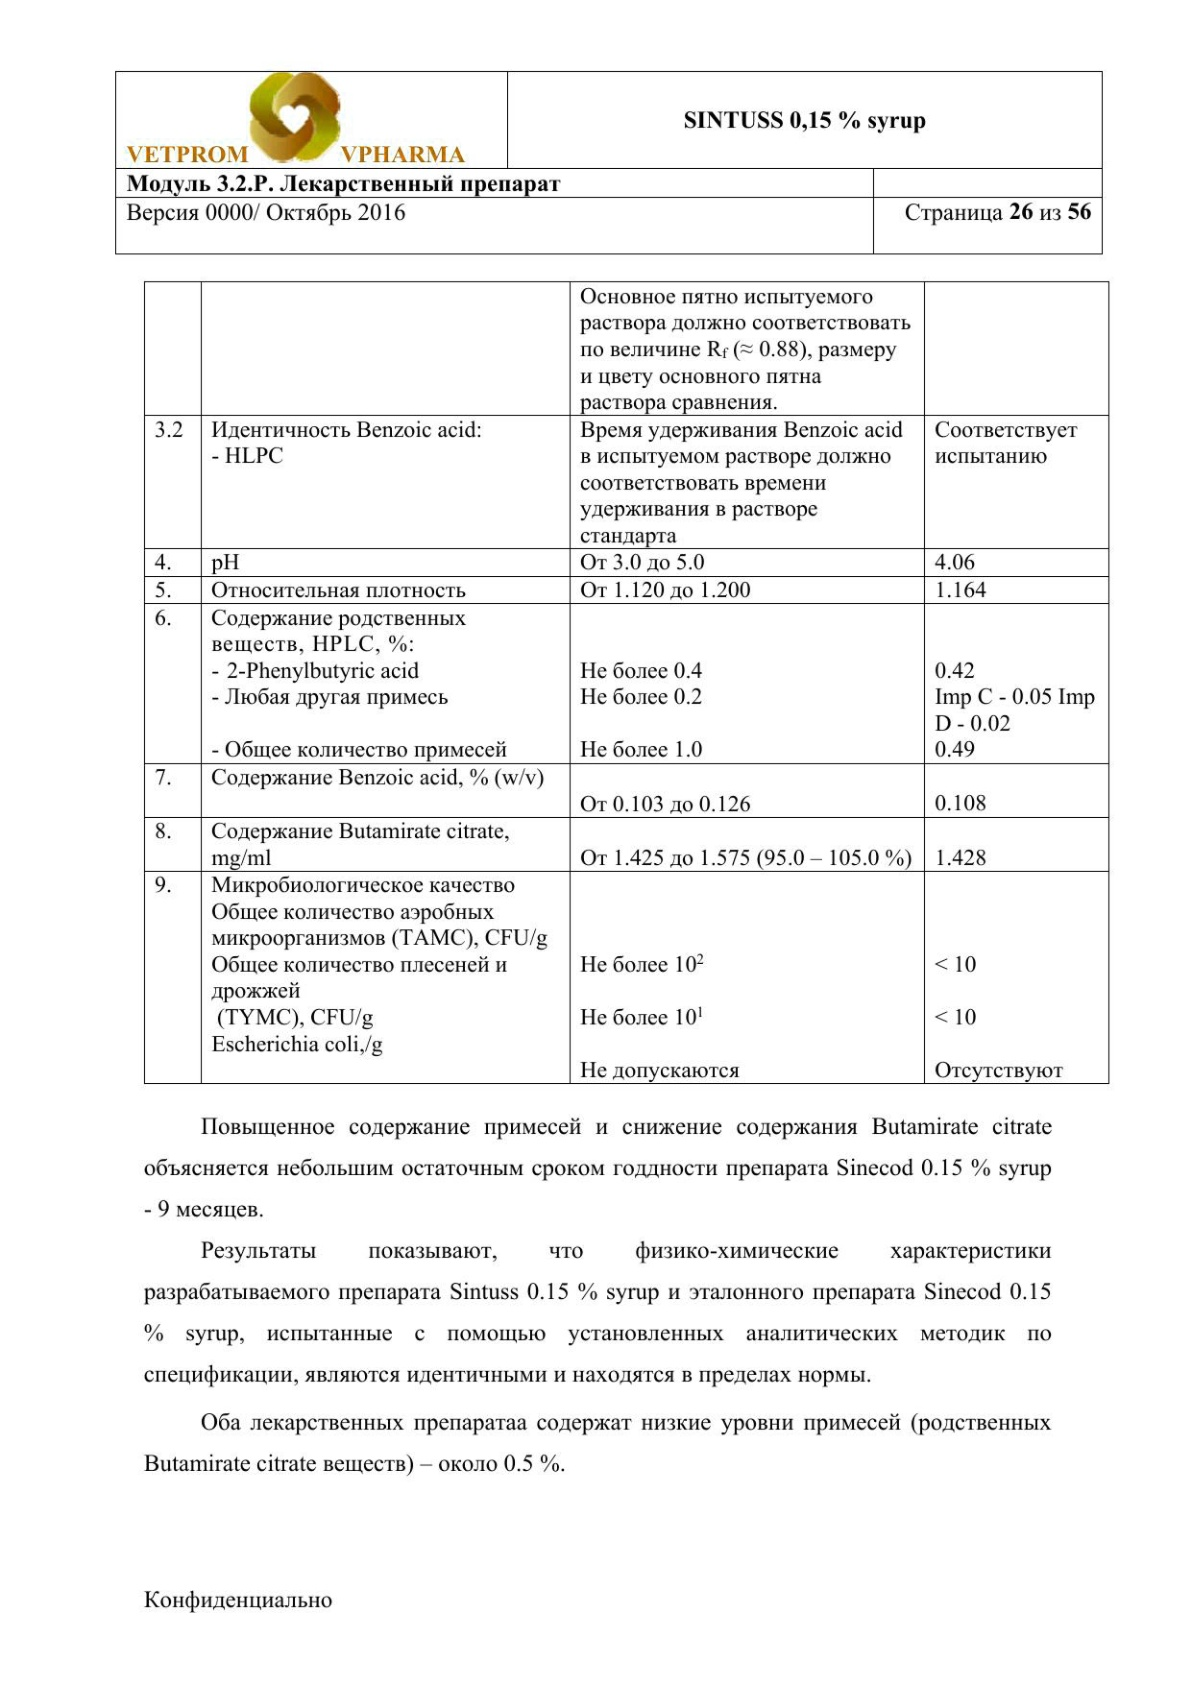full_lined: (142, 279, 1111, 1084)
merged_cells: (114, 70, 1106, 255)
